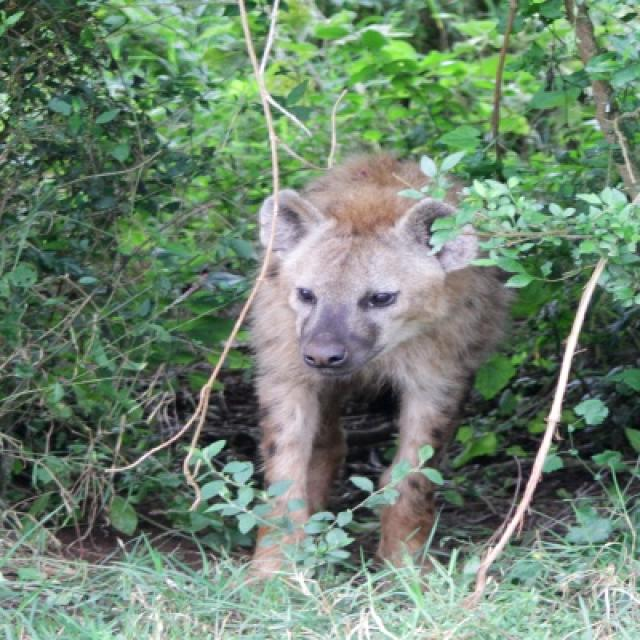hyena: (246, 154, 517, 568)
